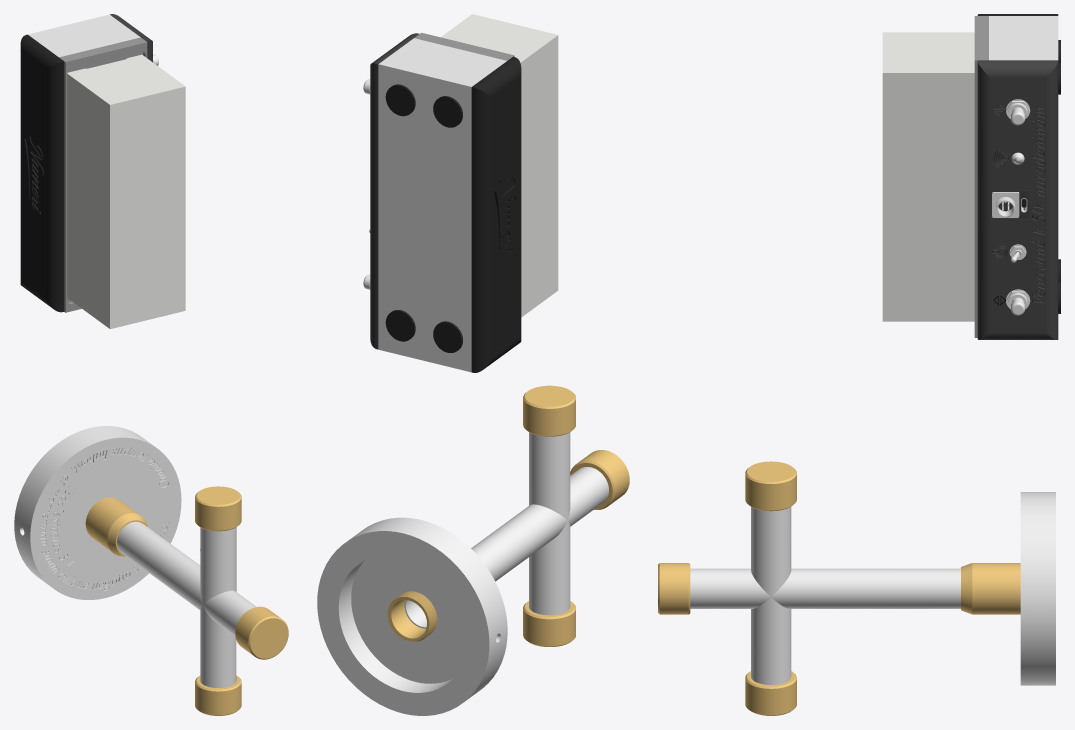
File: numitrónové hodiny.fbx
3 renders of one model, left to right at view 1: azimuth 30°, elevation 25°; view 2: azimuth 150°, elevation 25°; view 3: azimuth 270°, elevation 25°, orthographic. The views are drawn at different scales.
Visible parts, largest first — view 1: Body1 (×6), Body9, Body2, Body20, Body23; view 2: Body1 (×6), Body23, Body2, Body9, Body35, Body29, Body26, Body27, Body28, Body20; view 3: Body1 (×6), Body9, Body35, Body23, Body20, Body43.
Part boxes in pixels (x1,y1,x2,y2): Body1 (×6): (14,426,288,715); Body9: (67,54,185,329); Body2: (20,34,63,312); Body20: (59,37,147,312); Body23: (28,14,140,57); Body1 (×6): (317,385,629,715); Body23: (378,38,506,372); Body2: (471,56,521,372); Body9: (441,14,558,317); Body35: (370,33,419,349); Body29: (385,84,415,116); Body26: (385,310,415,341); Body27: (433,96,462,127); Body28: (433,321,462,352); Body20: (414,32,514,60); Body1 (×6): (658,461,1055,715); Body9: (882,32,974,321); Body35: (977,60,1058,339); Body23: (989,16,1058,60); Body20: (974,16,988,337); Body43: (992,192,1019,217).
Bounding box in the file's own units: 120 × 449 × 250.
